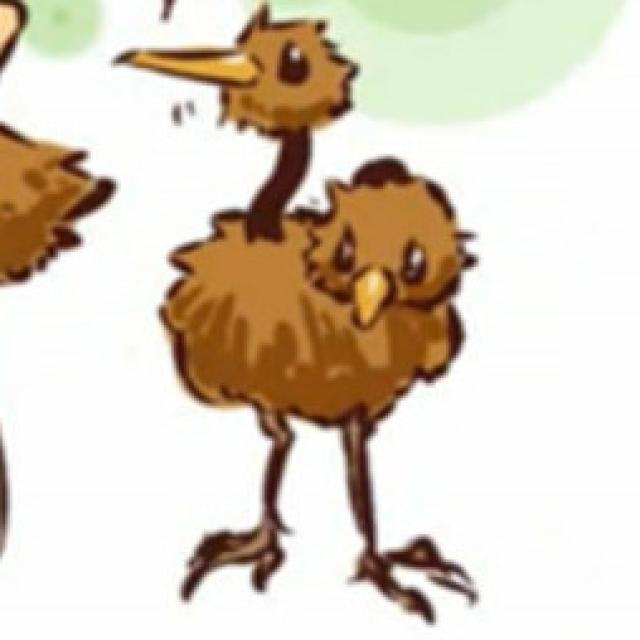Doduo: (167, 6, 472, 598)
